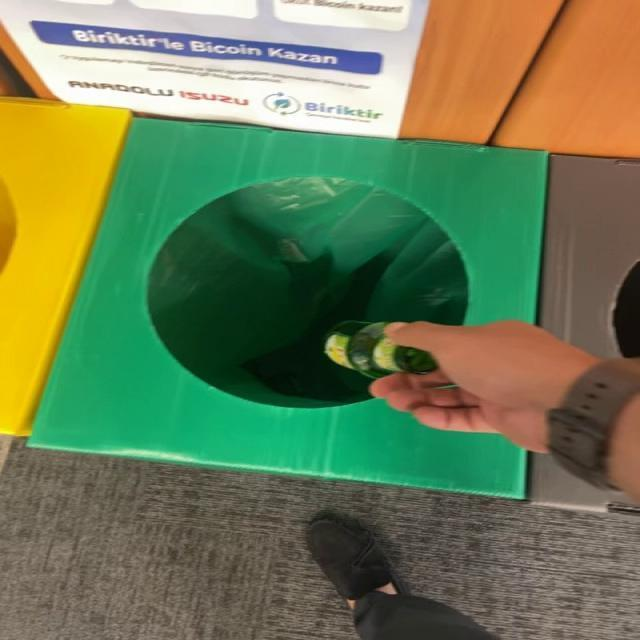Glass: (324, 321, 437, 378)
